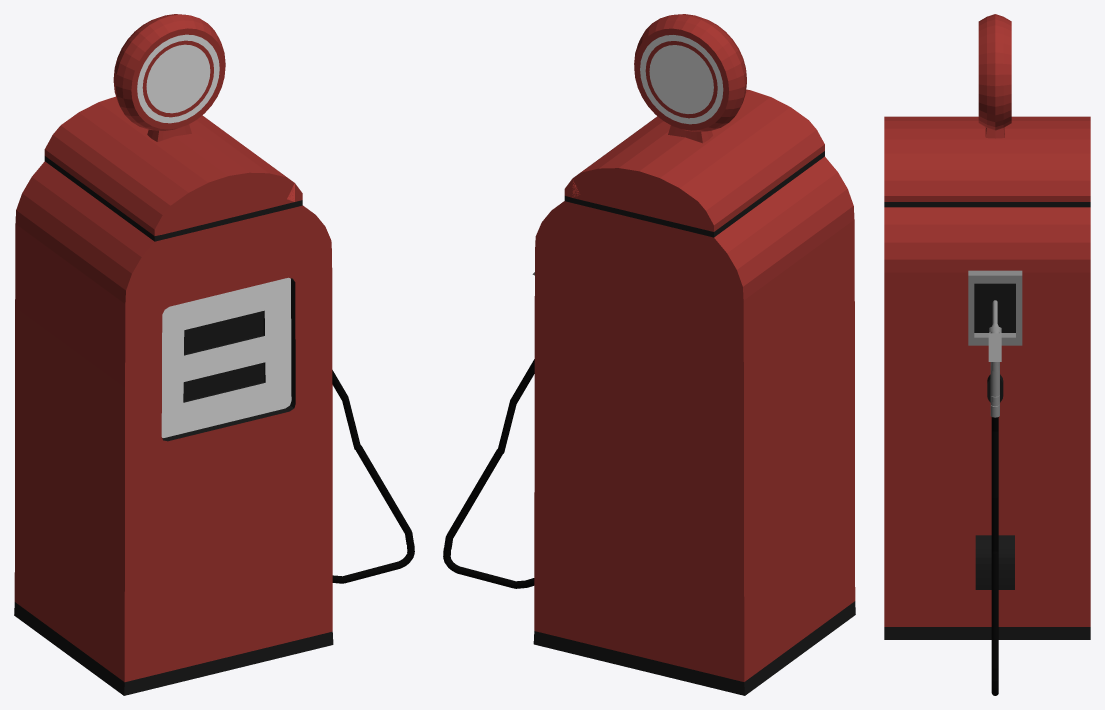
The model's file is gas_pump.fbx.
3 views of the same model, side by side, from view 1: azimuth 30°, elevation 25°; view 2: azimuth 150°, elevation 25°; view 3: azimuth 270°, elevation 25° (orthographic). The views are drawn at different scales.
Visible parts, largest first — view 1: Cube.004; view 2: Cube.004; view 3: Cube.004.
Part boxes in pixels (x1,y1,x2,y2): Cube.004: (14,14,414,695); Cube.004: (443,14,855,695); Cube.004: (884,14,1090,695).
Bounding box in the file's own units: 262 × 438 × 143.
